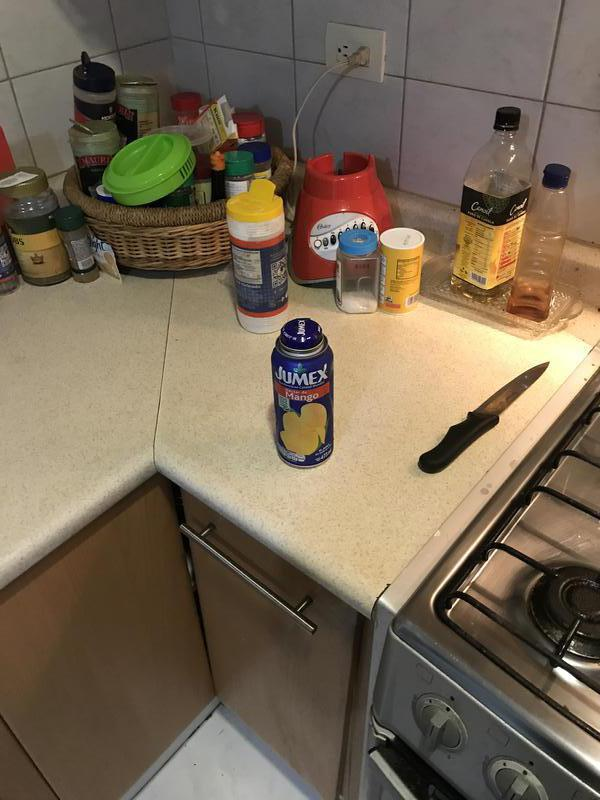jugo_jumex: (269, 318, 337, 468)
